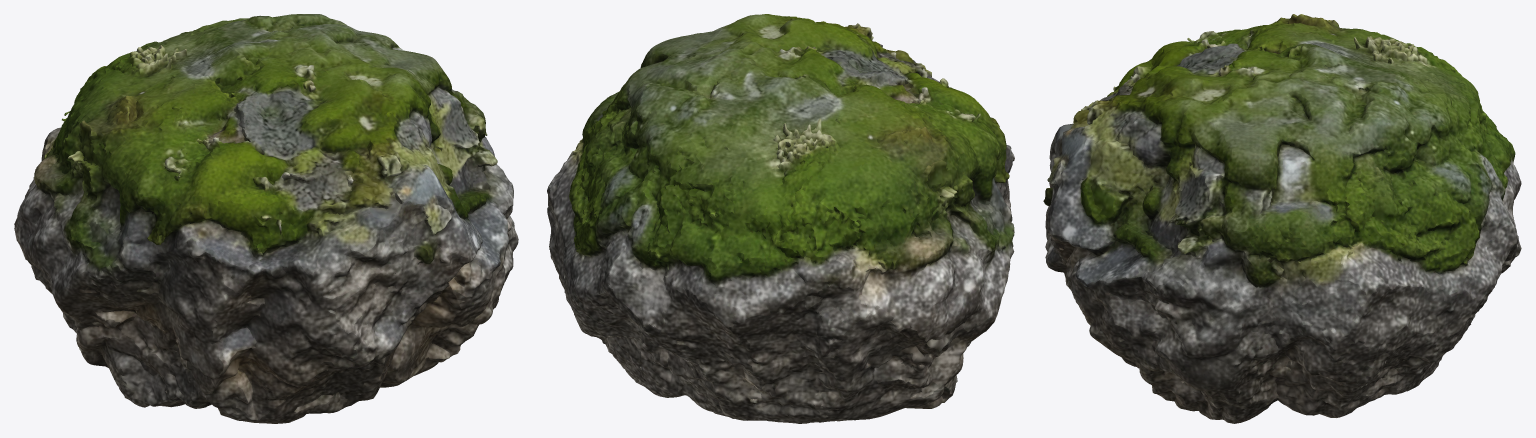
Rendered from mossrock-hero-v16-lod.glb.
3 renders of one model, left to right at view 1: azimuth 30°, elevation 25°; view 2: azimuth 150°, elevation 25°; view 3: azimuth 270°, elevation 25°, orthographic.
Parts seen in each view (by area): view 1: geometry_0; view 2: geometry_0; view 3: geometry_0.
Boxes of the visible parts, bbox=[...] form: geometry_0: bbox=[14, 14, 518, 423]; geometry_0: bbox=[547, 14, 1014, 423]; geometry_0: bbox=[1043, 14, 1521, 423].
Size of the model in its own units: 0.32 by 0.2308 by 0.3185.
Materials: 1 (1 with a texture image).
